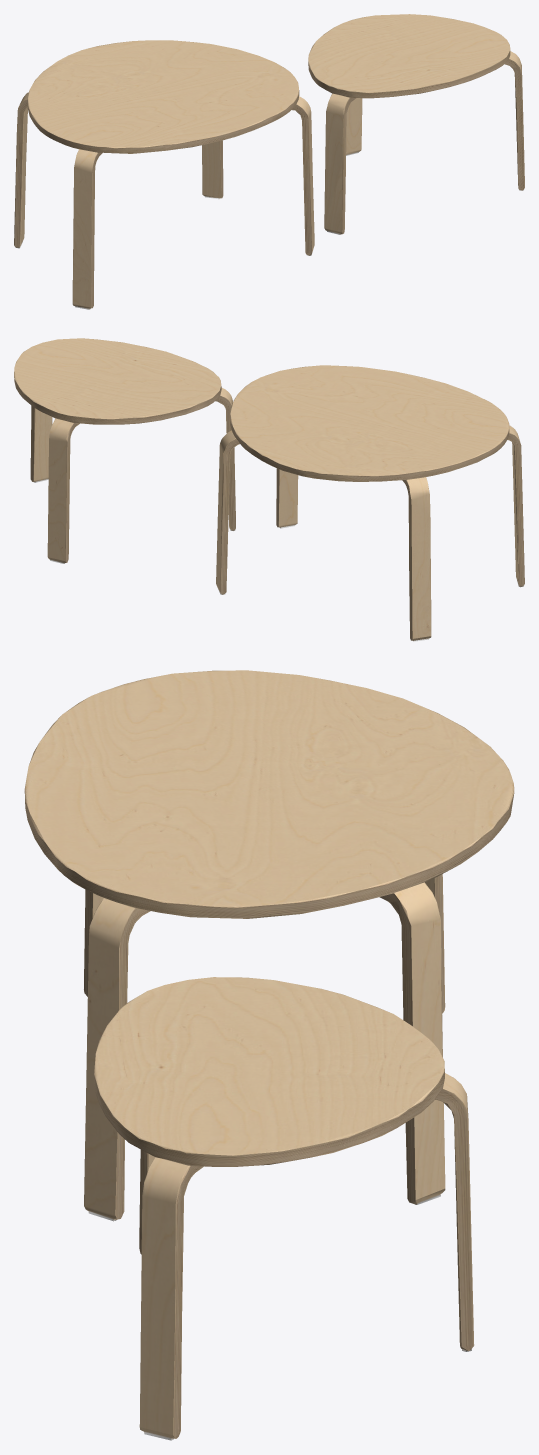
3 renders of one model, top to bottom at view 1: azimuth 30°, elevation 25°; view 2: azimuth 150°, elevation 25°; view 3: azimuth 270°, elevation 25°, orthographic. The views are drawn at different scales.
Parts seen in each view (by area): view 1: ProcessedMeshNode; view 2: ProcessedMeshNode; view 3: ProcessedMeshNode.
Part boxes in pixels (x1,y1,x2,y2): ProcessedMeshNode: [14, 14, 524, 309]; ProcessedMeshNode: [14, 338, 524, 641]; ProcessedMeshNode: [24, 670, 514, 1440].
Size of the model in its own units: 1.41 by 0.4578 by 0.6381.
Materials: 1 (1 with a texture image).
